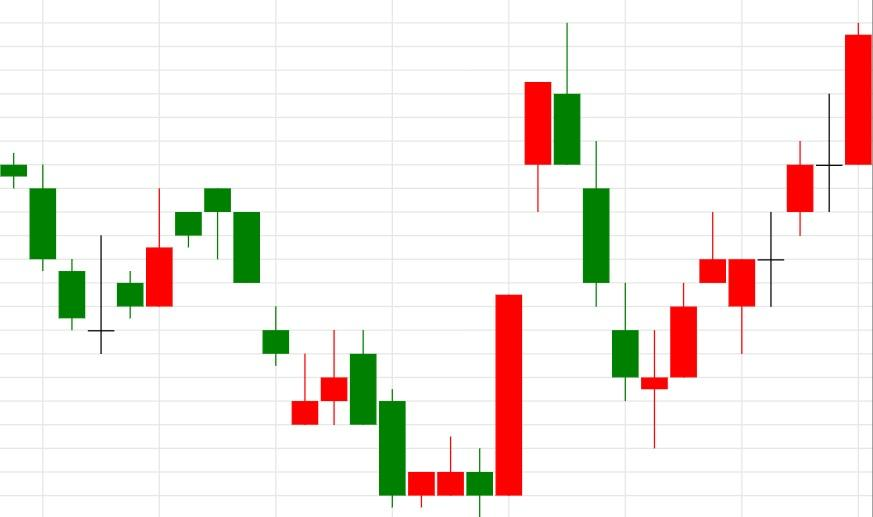hanging_man_fall: (86, 188, 232, 355)
morning_star_rise: (525, 21, 698, 449)
three_black_crows_fall: (465, 22, 640, 516)
